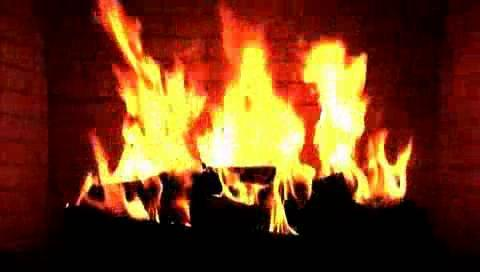fire: (84, 28, 412, 225)
